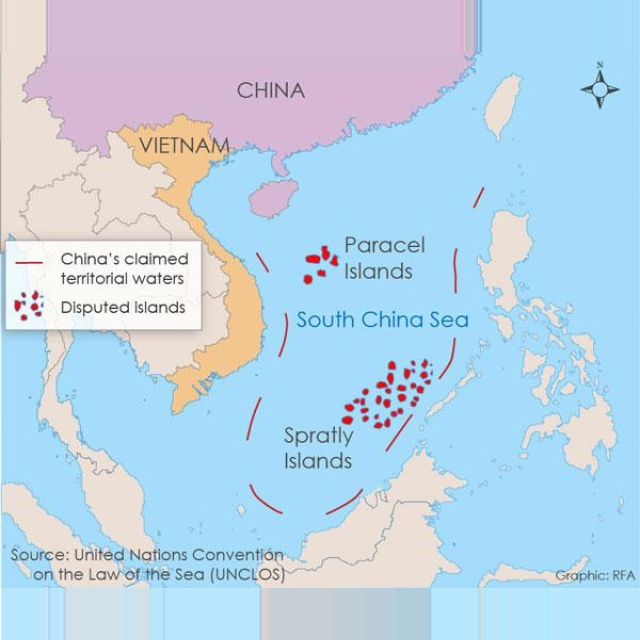Nine Dash Line: (225, 151, 495, 590)
